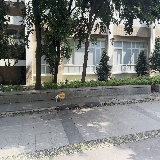fire: (58, 92, 65, 100)
